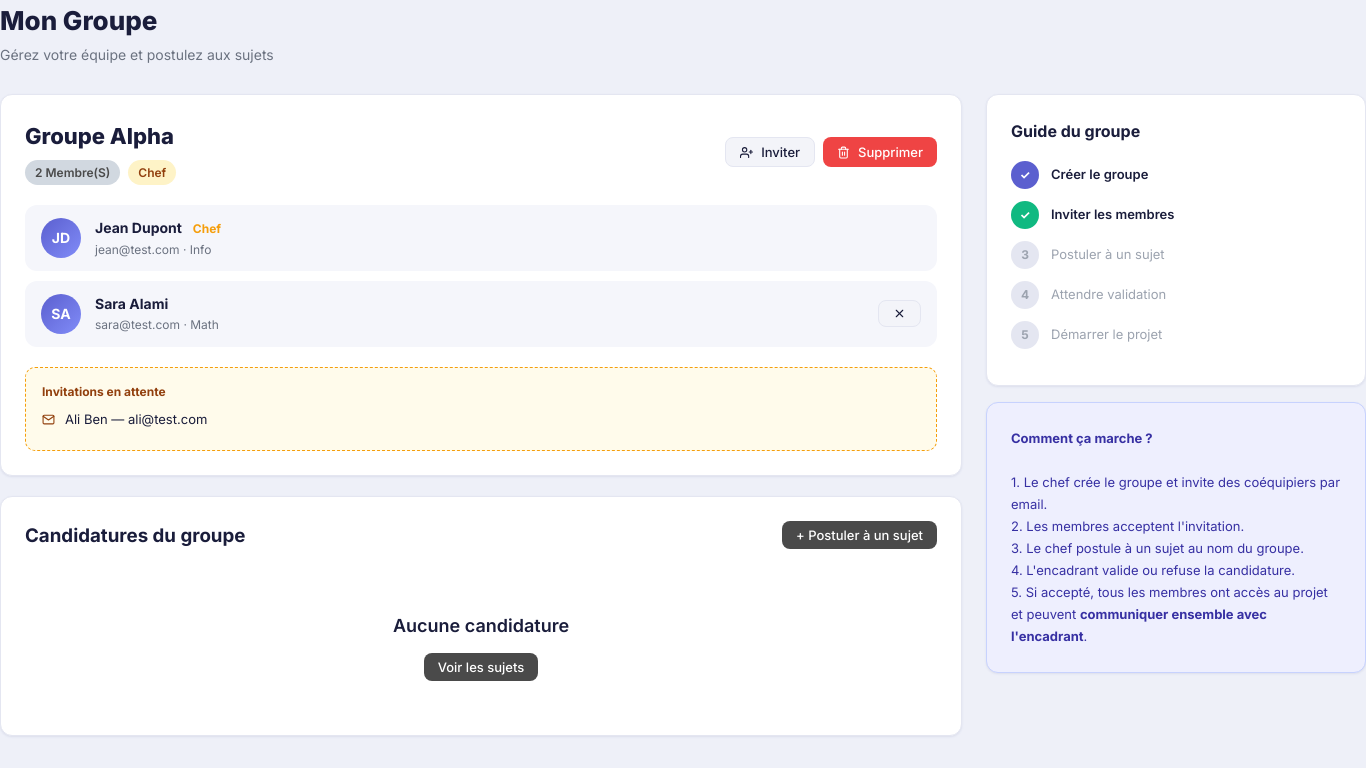
Test case: GroupPage - Group Panel (Chef) › chef can open invite modal
Check: the heading "Groupe Alpha" is shown, box 25,119 -> 176,154
Click the button "Inviter".
click(770, 152)  # box 725,137 -> 815,167
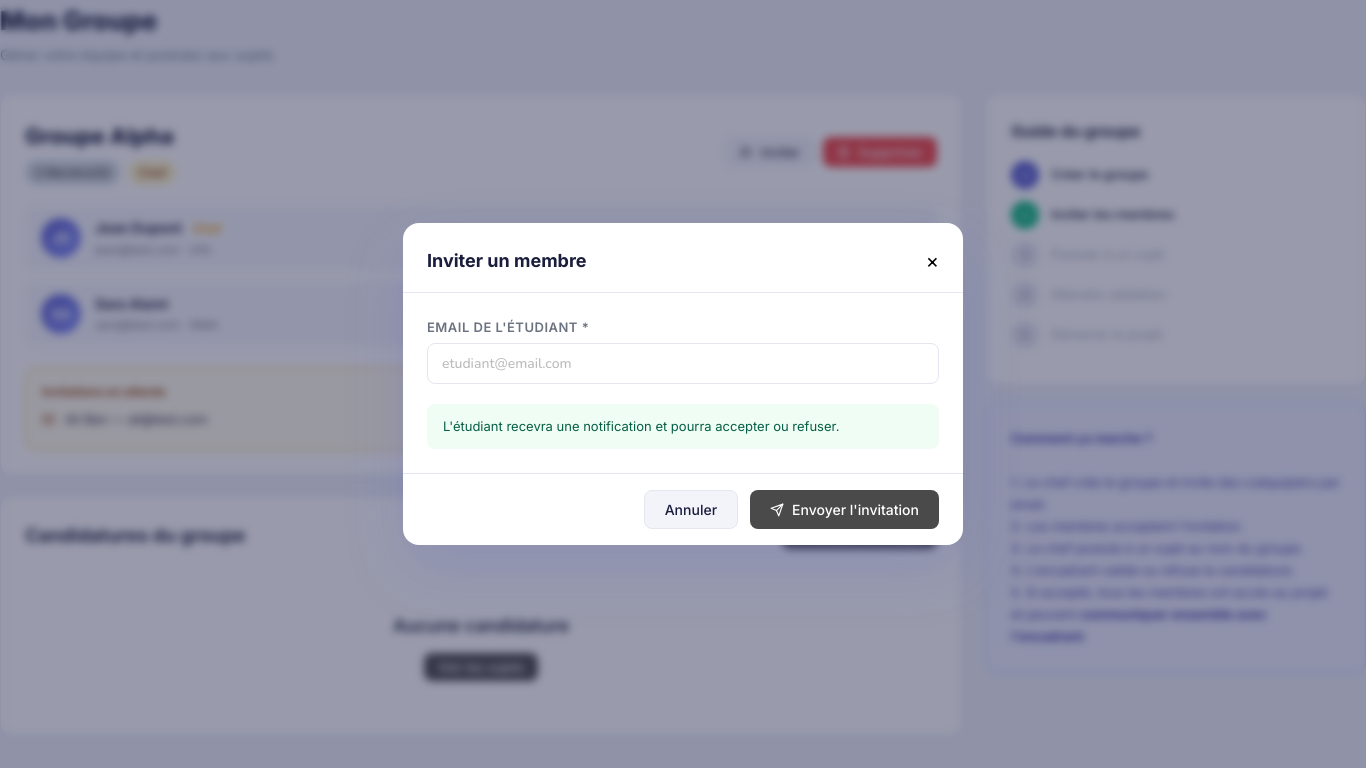
Check: the heading "Inviter un membre" is shown, box 427,247 -> 587,276
